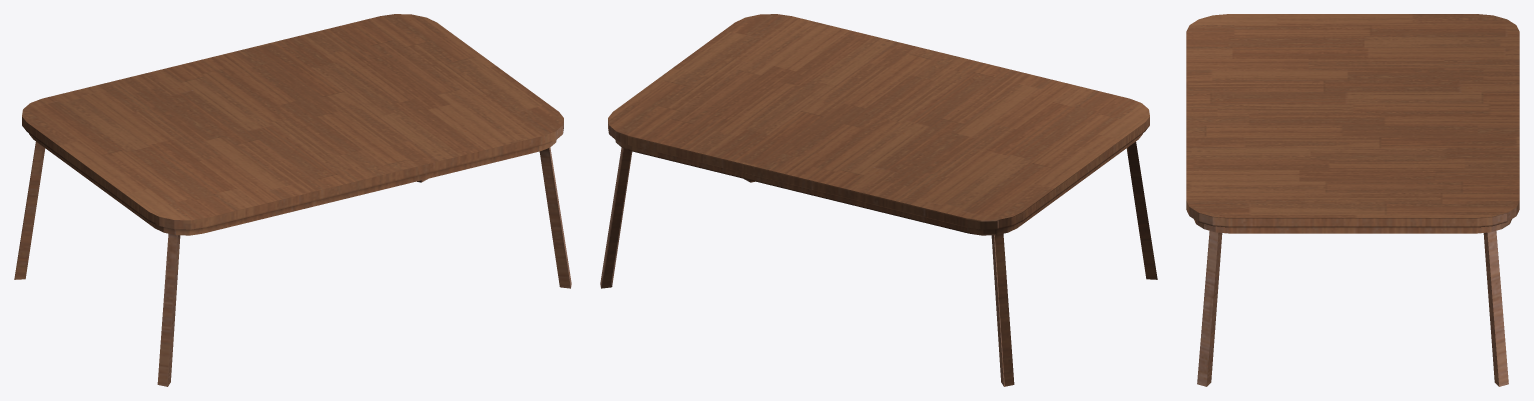
Rendered from Desk00.fbx.
3 views of the same model, side by side, from view 1: azimuth 30°, elevation 25°; view 2: azimuth 150°, elevation 25°; view 3: azimuth 270°, elevation 25° (orthographic).
Visible parts, largest first — view 1: zhuozi; view 2: zhuozi; view 3: zhuozi.
Part boxes in pixels (x1=…): zhuozi: x1=14, y1=14, x2=571, y2=386; zhuozi: x1=600, y1=14, x2=1157, y2=386; zhuozi: x1=1186, y1=14, x2=1519, y2=386.
Bounding box in the file's own units: 22.79 × 8.66 × 15.59.
1 material, 1 textured.
